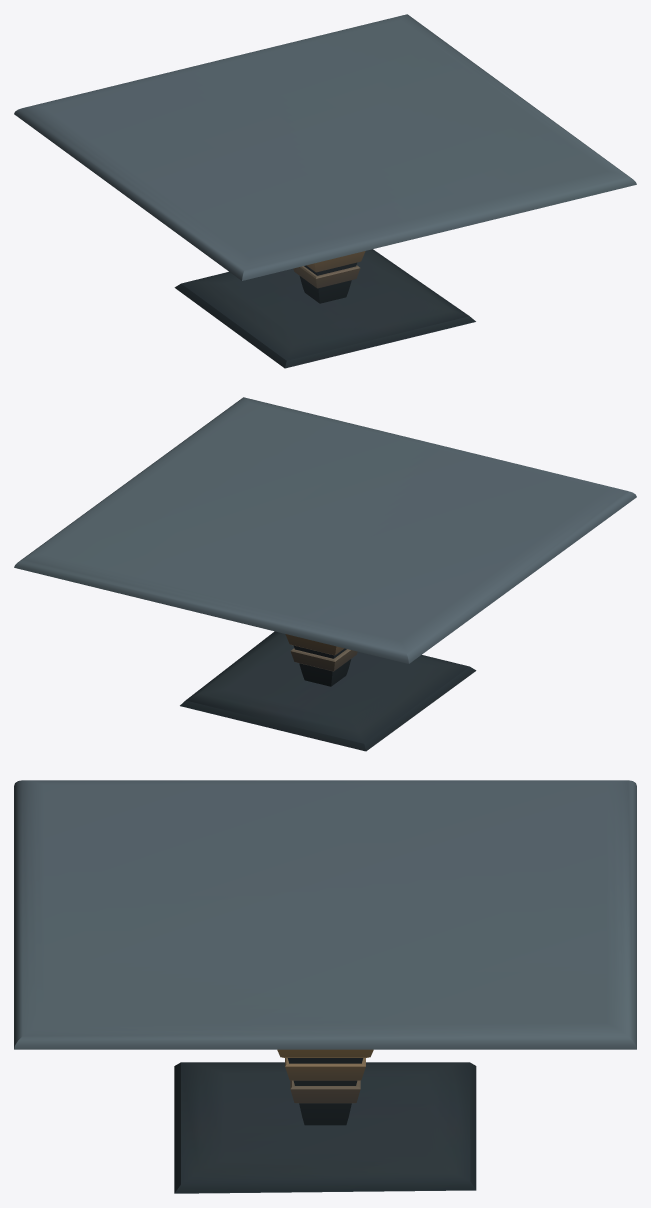
File: Table2.fbx
3 renders of one model, top to bottom at view 1: azimuth 30°, elevation 25°; view 2: azimuth 150°, elevation 25°; view 3: azimuth 270°, elevation 25°, orthographic. The views are drawn at different scales.
Parts seen in each view (by area): view 1: Table2; view 2: Table2; view 3: Table2.
Part boxes in pixels (x1,y1,x2,y2): Table2: [14, 14, 636, 368]; Table2: [14, 397, 636, 751]; Table2: [14, 780, 636, 1193].
Size of the model in its own units: 2 by 2 by 0.8.
